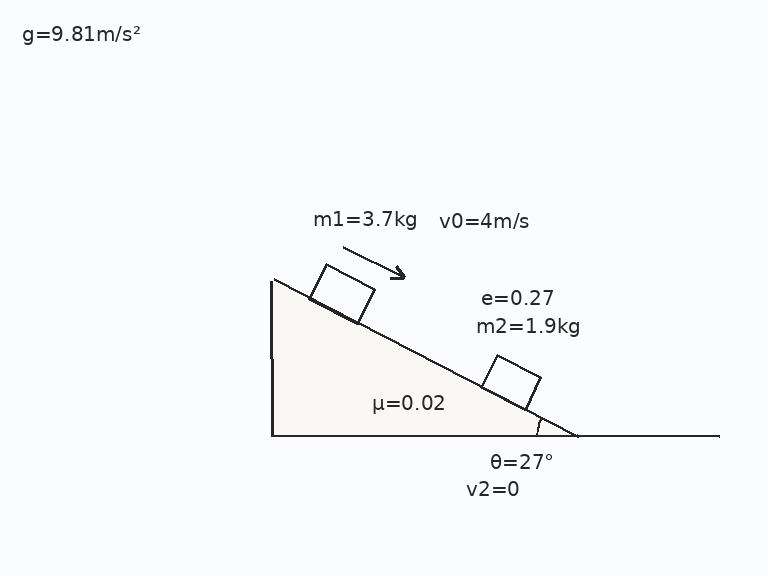block: (307, 263, 376, 326), (479, 353, 542, 411)
ramp: (270, 279, 579, 438)
